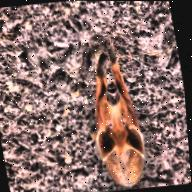boar: (75, 39, 152, 190)
